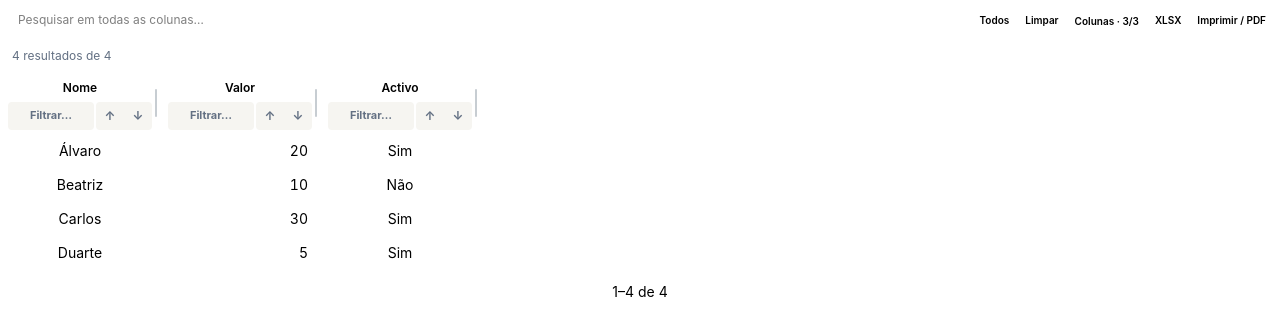
Test: StandardDataTable › filtra e ordena sobre todo o universo carregado, não apenas sobre a página inicial
This screenshot has width=1280, height=314.
Click the button named "Ordenar Valor por ordem ascendente": (270, 116) [256,102,284,130]
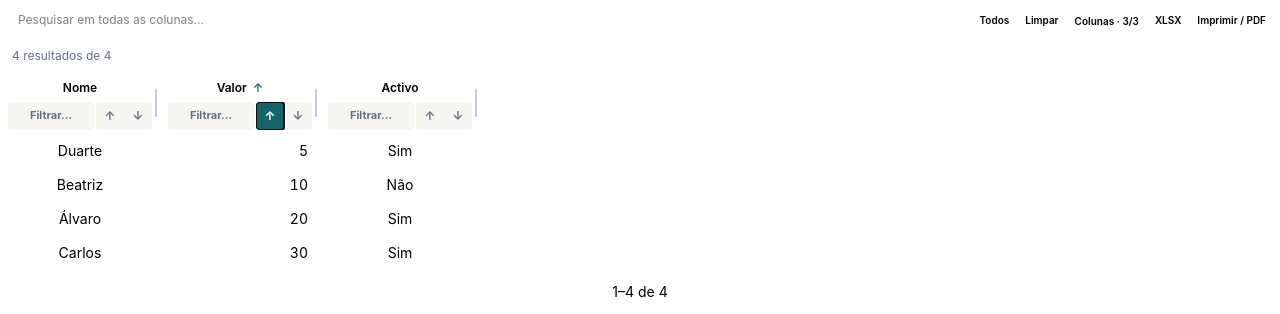
Expected: the text "4 resultados de 4" is shown, [12,48,111,63]
Expected: the row "Duarte 5 Sim" is shown, [0,134,480,168]
In the search field with placeholder "Pesquisar em todas as colunas…": (489, 20) [8,4,970,36], type "Beatriz"
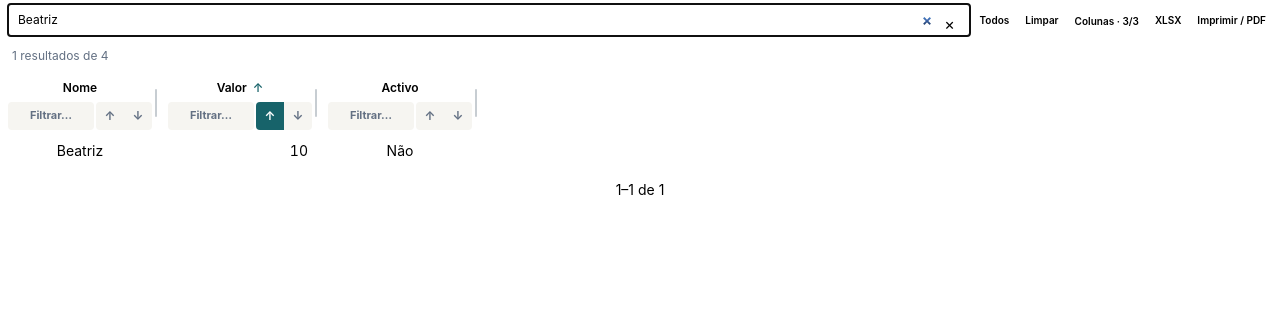
Expected: the text "1 resultados de 4" is shown, [12,48,108,63]
